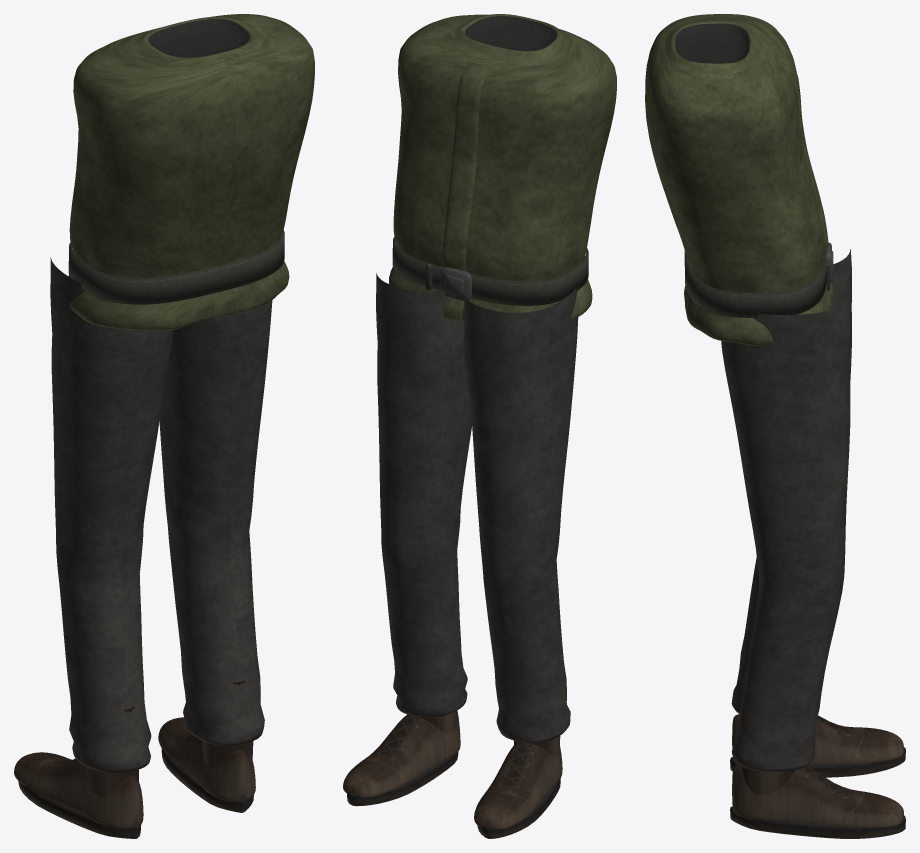
Rendered from fp_body.gltf.
3 renders of one model, left to right at view 1: azimuth 30°, elevation 25°; view 2: azimuth 150°, elevation 25°; view 3: azimuth 270°, elevation 25°, orthographic. The views are drawn at different scales.
Parts seen in each view (by area): view 1: Torso, LegL, LegR; view 2: Torso, LegL, LegR; view 3: LegR, Torso, LegL.
Boxes of the visible parts, bbox=[...] form: Torso: bbox=[68, 14, 314, 330]; LegL: bbox=[14, 257, 173, 838]; LegR: bbox=[158, 300, 272, 812]; Torso: bbox=[389, 14, 616, 320]; LegL: bbox=[464, 288, 578, 838]; LegR: bbox=[343, 273, 471, 806]; LegR: bbox=[721, 294, 905, 838]; Torso: bbox=[645, 14, 833, 345]; LegL: bbox=[730, 249, 905, 777].
Bounding box in the file's own units: 0.4001 × 1.44 × 0.4519.
Materials: 3 (3 with a texture image).
